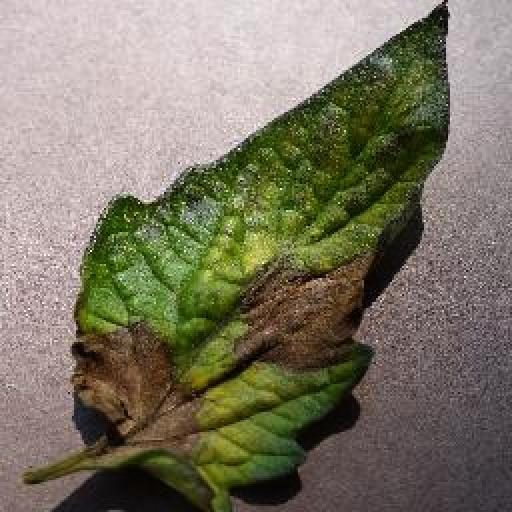disease_tomato: (70, 0, 452, 512)
